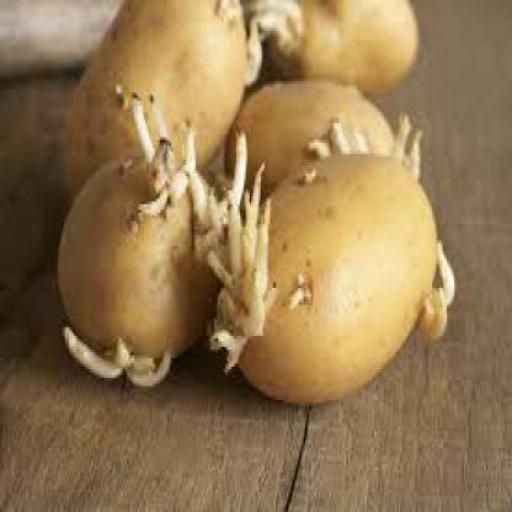biodegradable: (206, 118, 454, 406), (54, 92, 244, 383), (59, 0, 257, 199), (223, 78, 391, 201), (249, 0, 417, 92)
